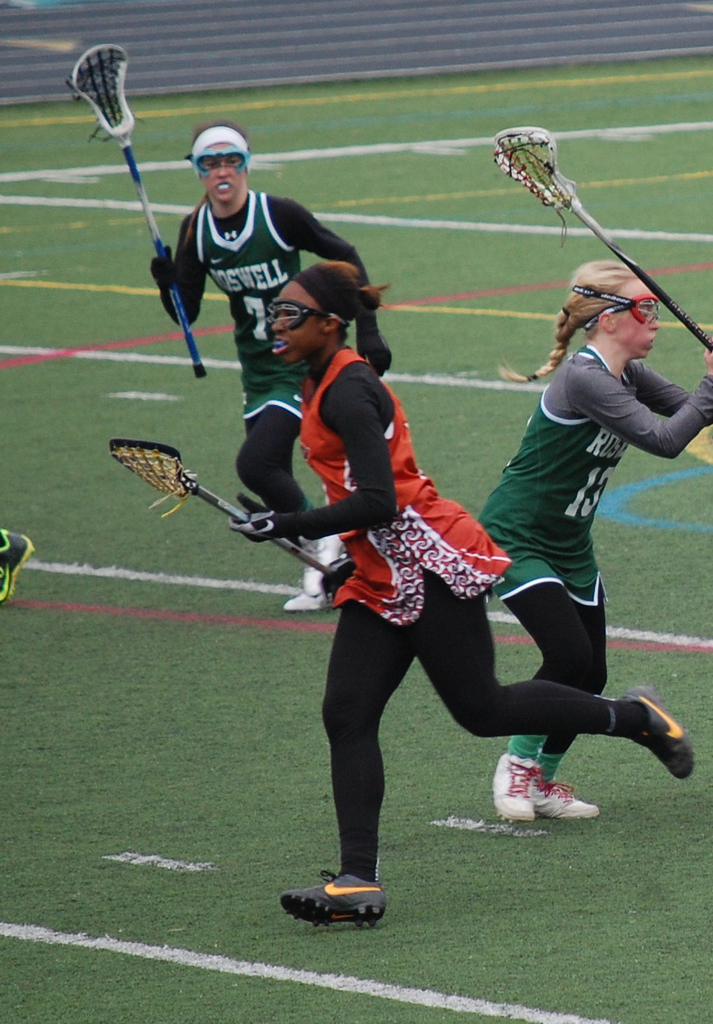Person: (0, 527, 33, 605)
